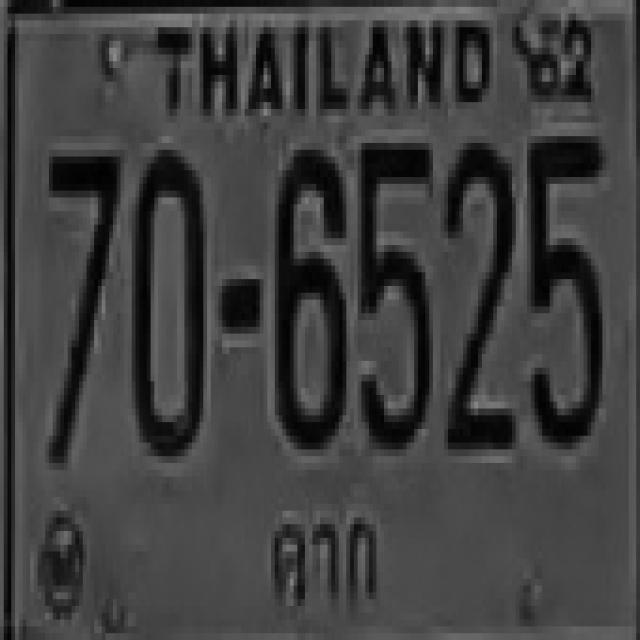0: (128, 143, 203, 449)
2: (444, 140, 512, 446)
5: (527, 130, 599, 442), (358, 136, 429, 443)
6: (273, 143, 344, 443)
7: (45, 146, 117, 460)
Tak: (261, 504, 392, 616)
